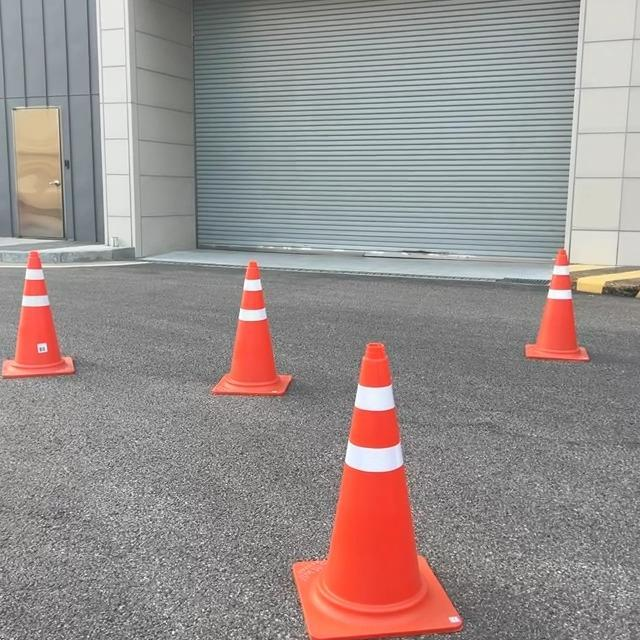fallen_object: (247, 327, 466, 640), (169, 239, 307, 435), (0, 220, 72, 376), (509, 239, 592, 371)
